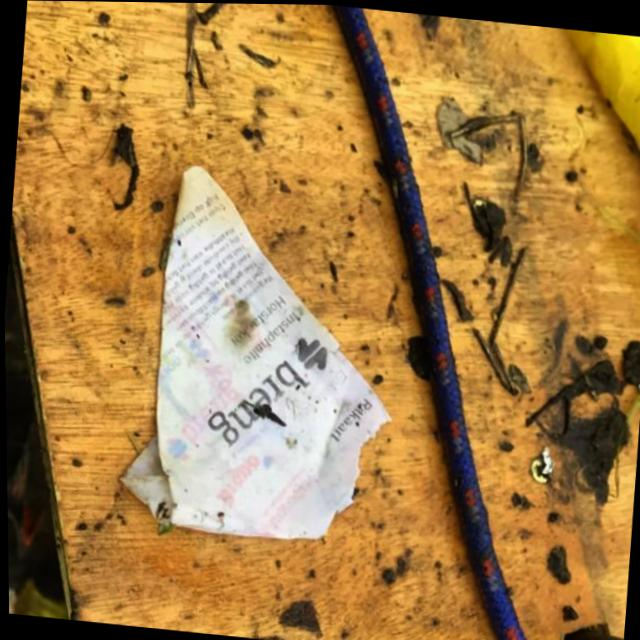Paper: (105, 153, 416, 553)
